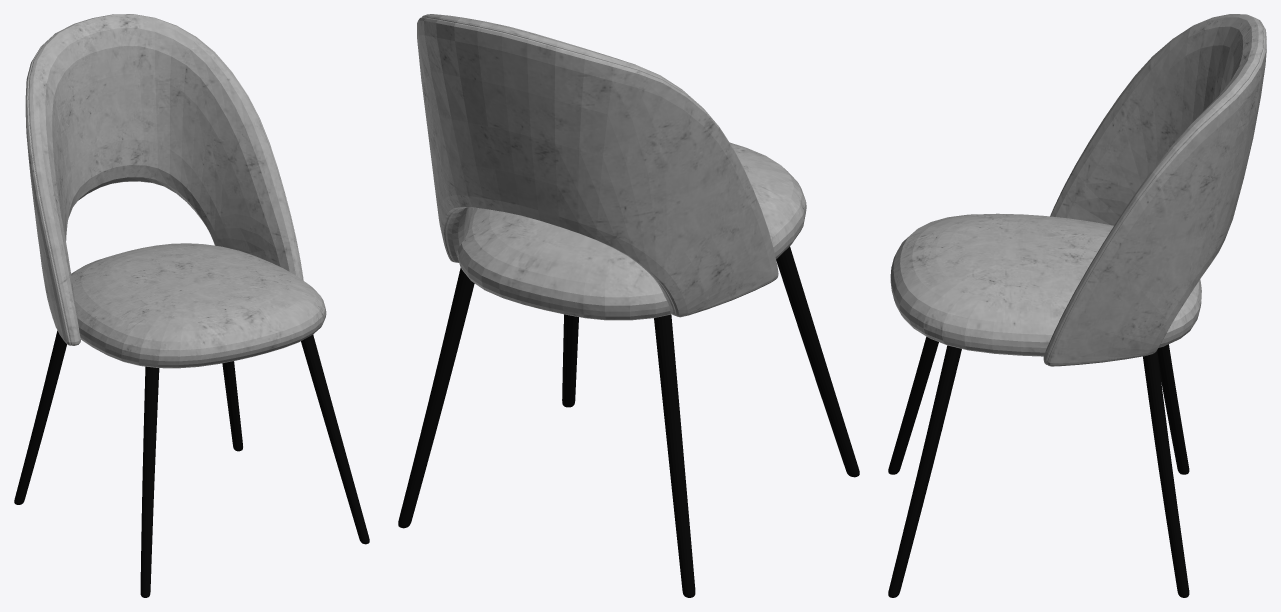
The model's file is light-gray-chair.obj.
The picture shows the model from 3 angles, left to right: view 1: azimuth 30°, elevation 25°; view 2: azimuth 150°, elevation 25°; view 3: azimuth 270°, elevation 25°; orthographic projection. The views are drawn at different scales.
Parts seen in each view (by area): view 1: Chair_175; view 2: Chair_175; view 3: Chair_175.
Part boxes in pixels (left/top/right/bottom): Chair_175: left=14, top=14, right=369, bottom=597; Chair_175: left=398, top=14, right=859, bottom=597; Chair_175: left=888, top=14, right=1266, bottom=597.
Size of the model in its own units: 47.12 by 82.16 by 56.43.
2 materials, 1 textured.
